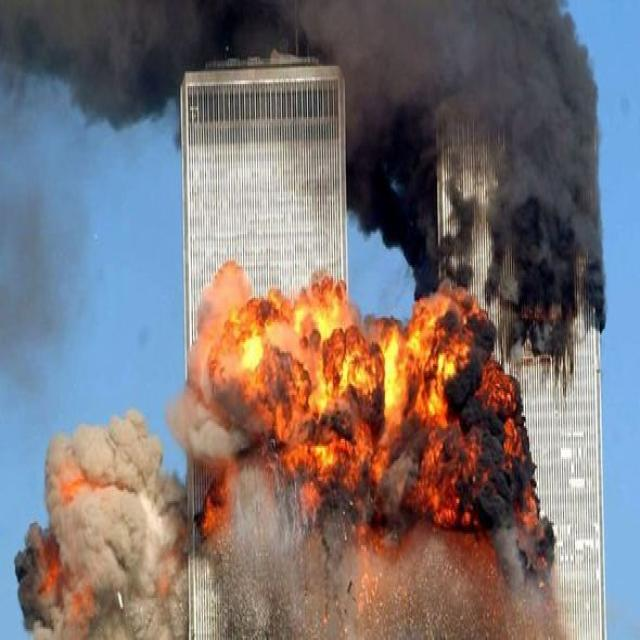Fire: (207, 302, 459, 422)
Smoke: (0, 0, 596, 340), (2, 408, 548, 640)
